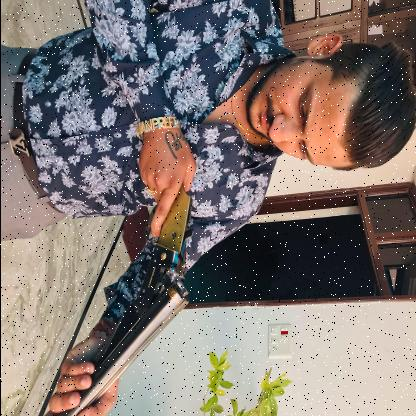rifle: (51, 140, 196, 416)
